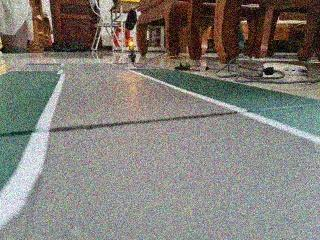yellow: (123, 33, 142, 54)
